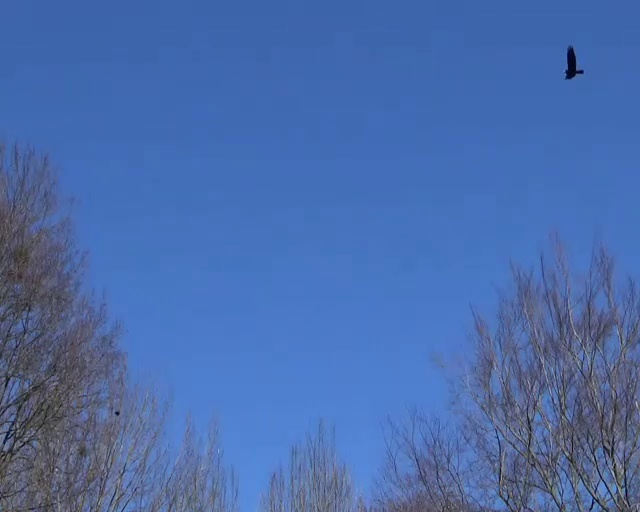BIRD: (564, 45, 584, 80)
